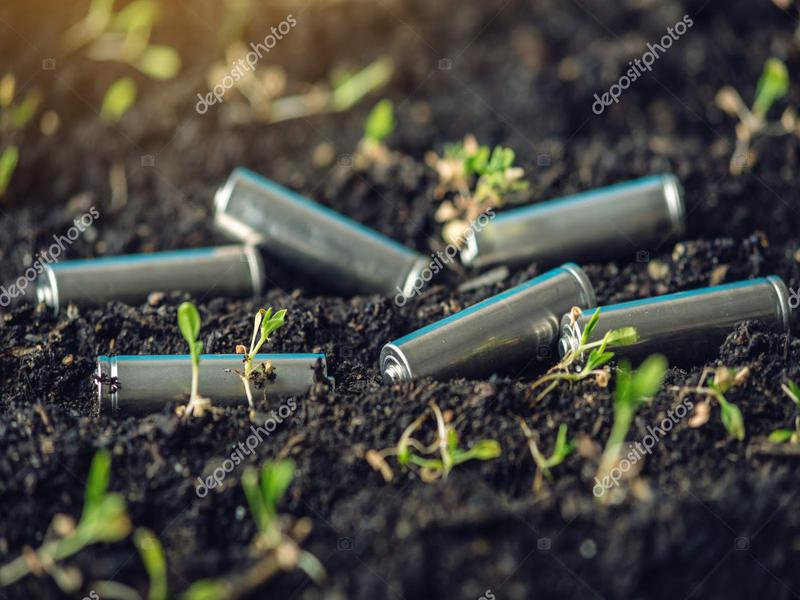battery: (204, 148, 438, 306), (459, 166, 694, 277), (552, 273, 800, 371), (32, 238, 276, 318), (90, 349, 342, 418)
